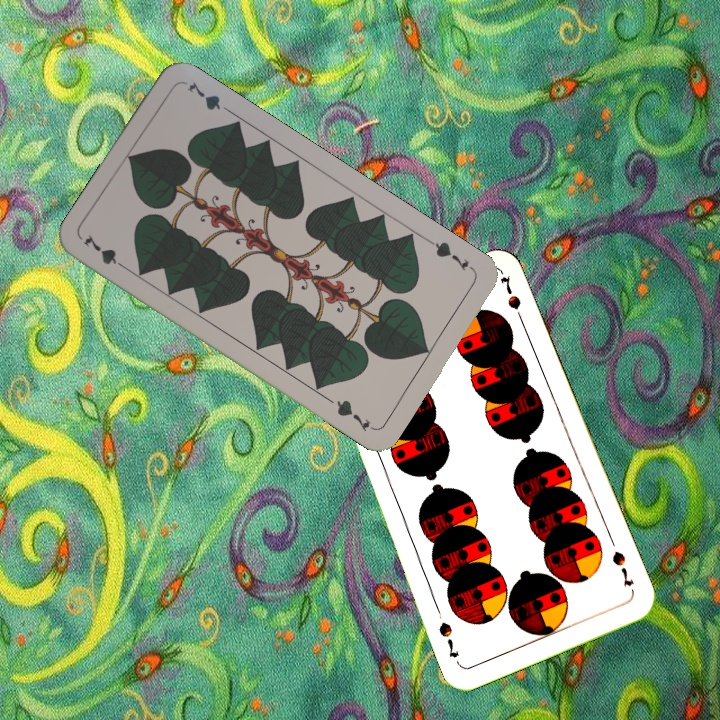G7: (79, 230, 132, 274), (425, 235, 477, 274)
S7: (608, 547, 637, 589)
